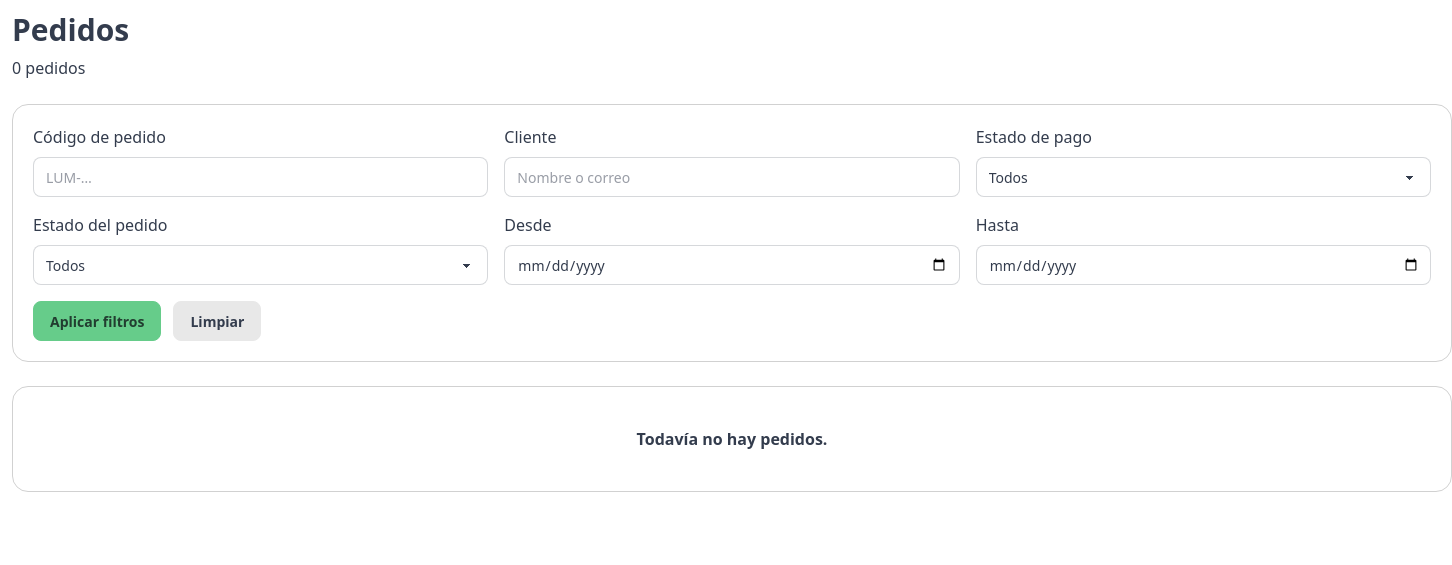
Test case: OrdersAdminPageComponent (lista de pedidos) › aplica filtros de código, cliente, pago, estado y fechas y los refleja en la URL
Type "LUM-2026" into the search field labelled "Código de pedido".
click(261, 177); type("LUM-2026")  # box [33,157,488,197]
Type "ana" into the search field with id "filter-customer".
click(732, 177); type("ana")  # box [504,157,960,197]
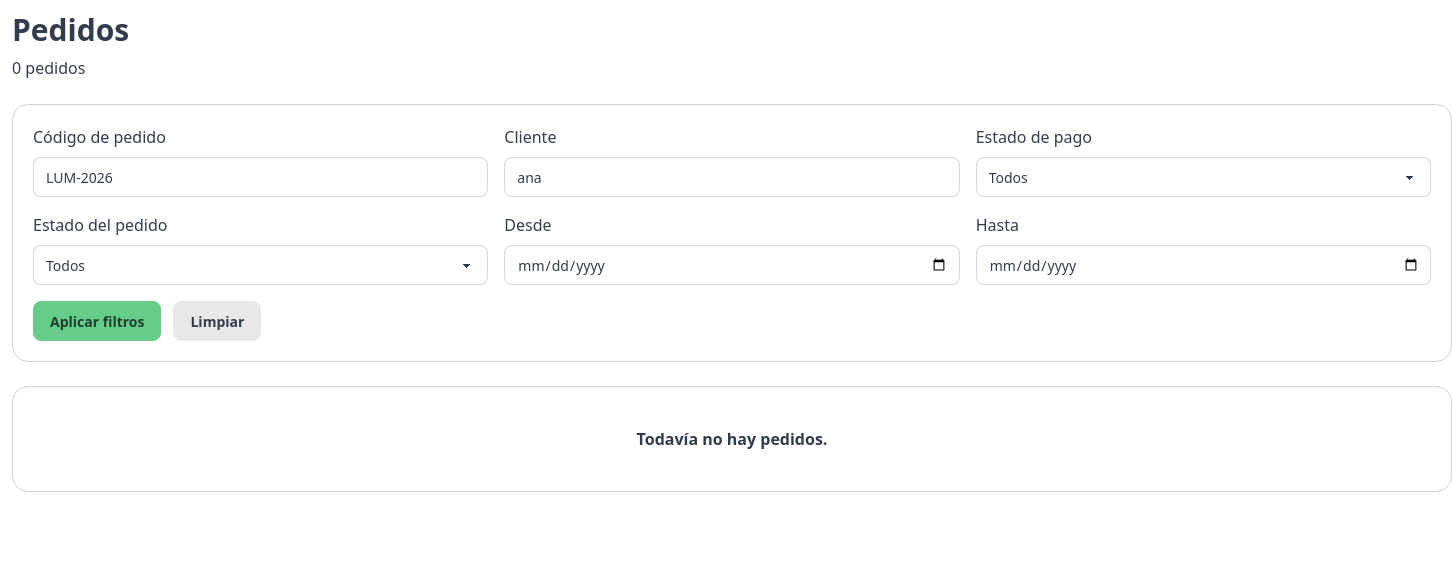
Select "Pago confirmado" in the dropdown with id "filter-payment" at (1203, 177), box [976,157,1431,197]
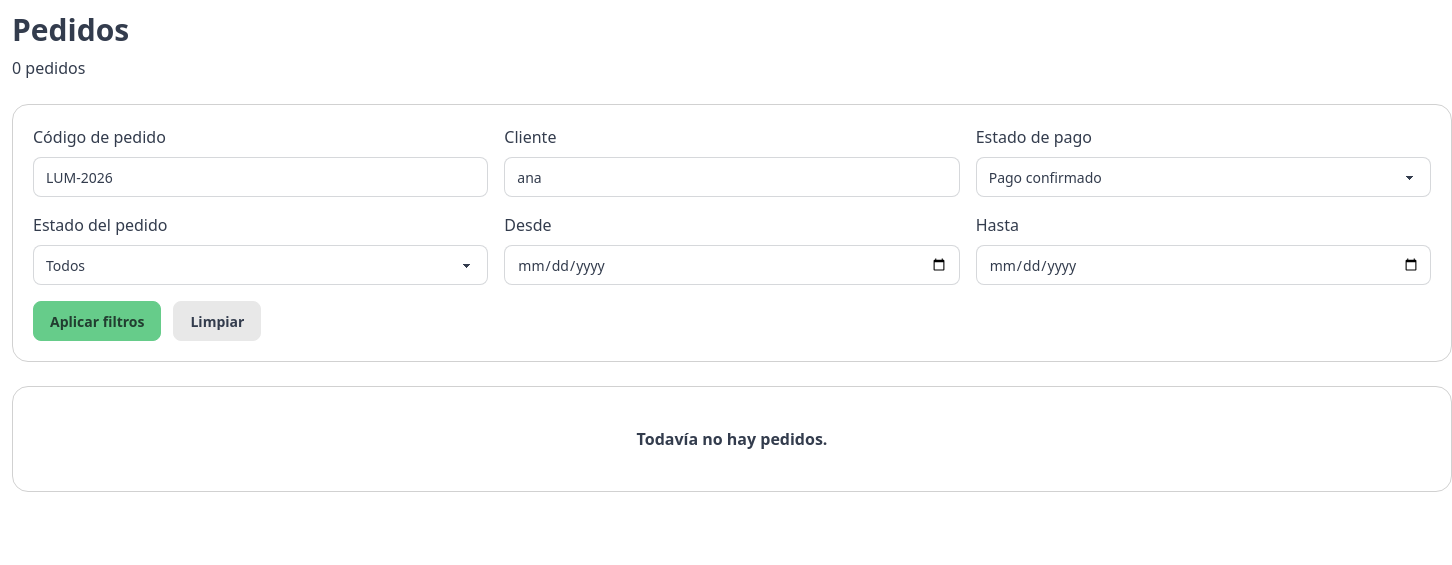
Select "Enviado" in the dropdown labelled "Estado del pedido" at (261, 265), box [33,245,488,285]
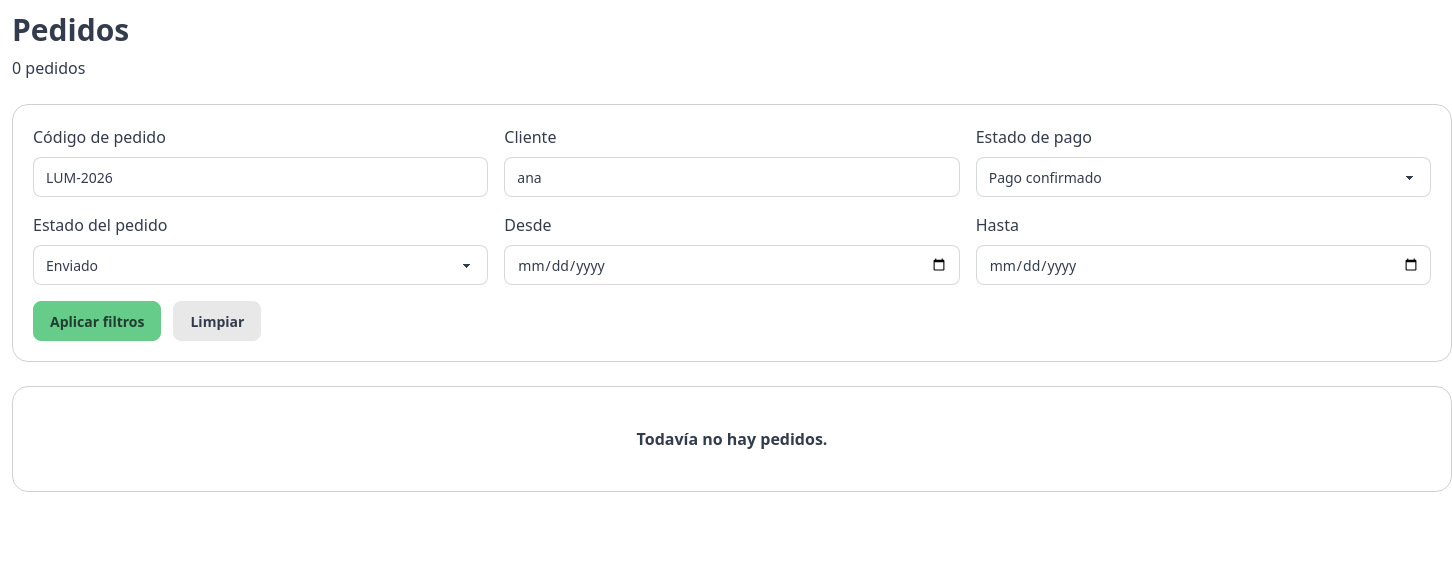
Type "2026-10-01" into the date field labelled "Desde".
click(732, 265); type("2026-10-01")  # box [504,245,960,285]
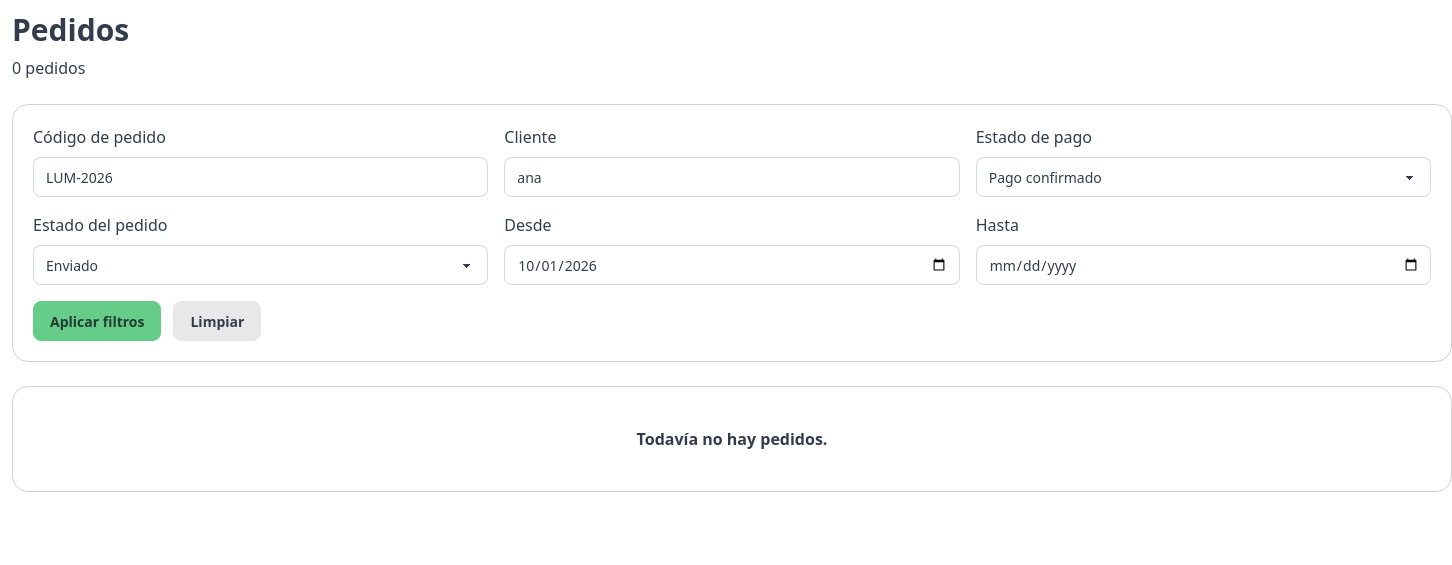
Type "2026-10-31" into the date field labelled "Hasta".
click(1203, 265); type("2026-10-31")  # box [976,245,1431,285]
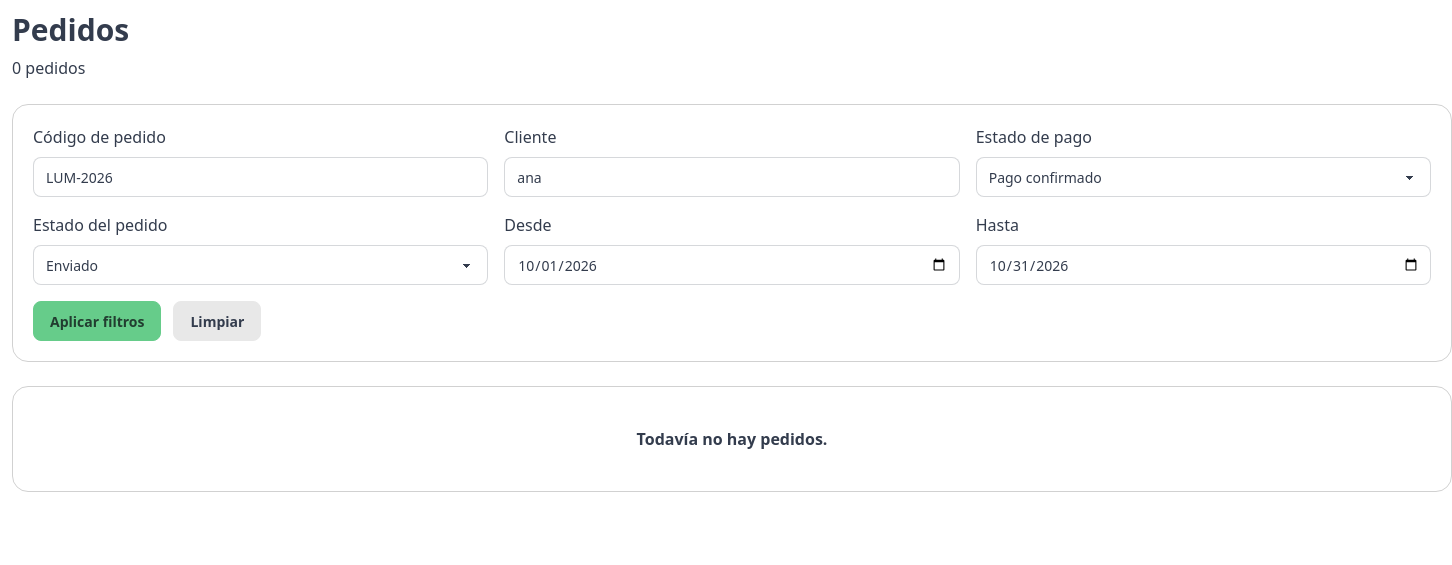
Click the button "Aplicar filtros".
click(97, 321)  # box [33,301,162,341]
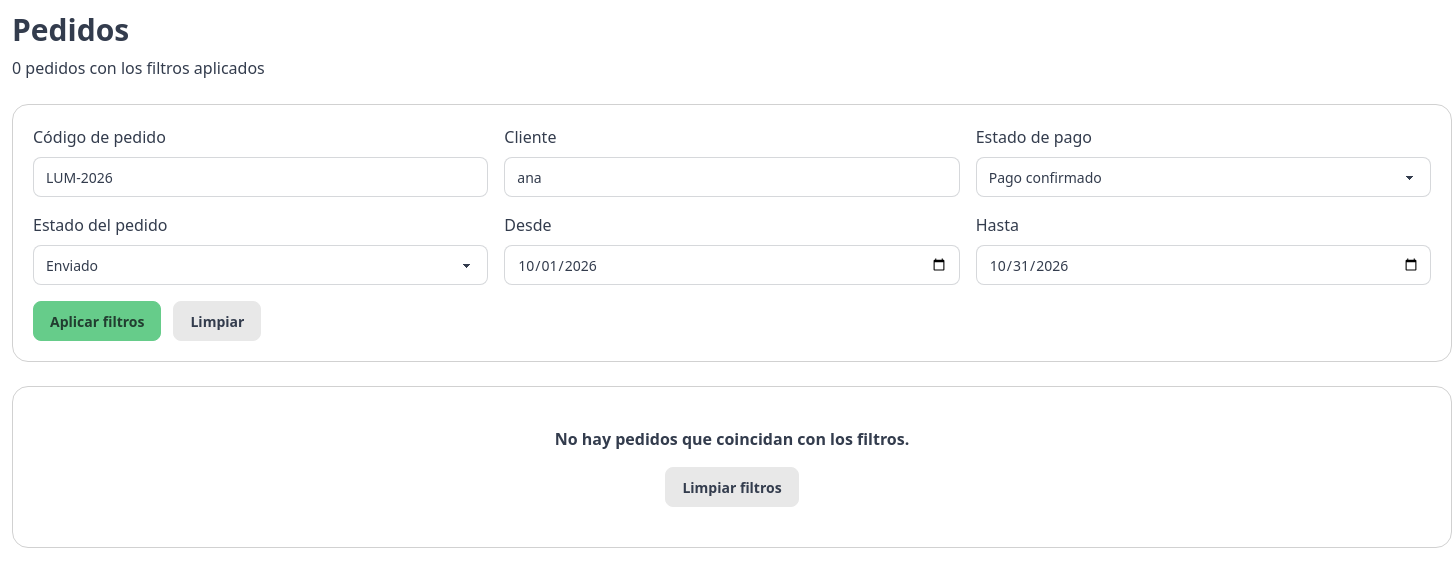
Result: the text "No hay pedidos que coincidan con los filtros." is shown at [555,428,909,450]
